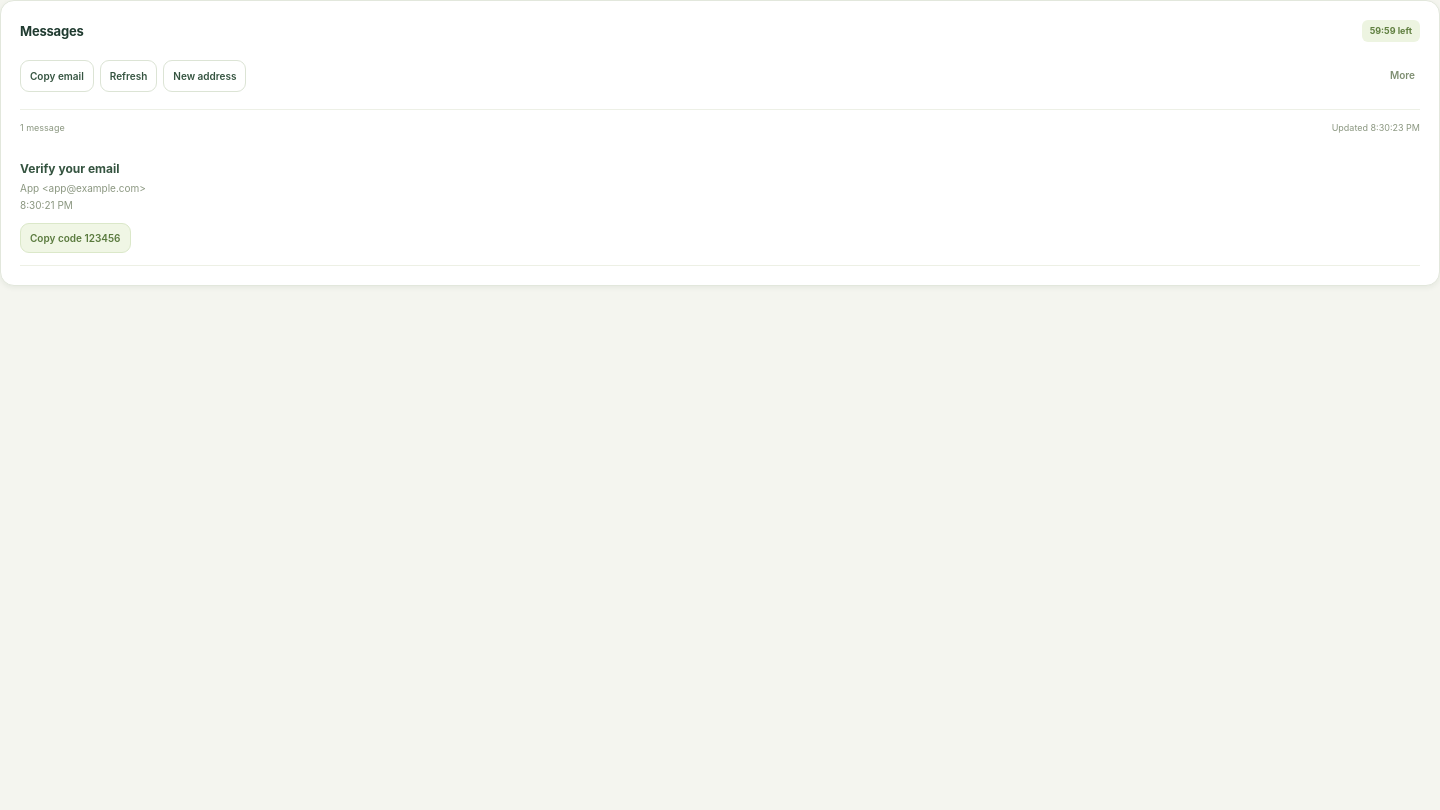
Scenario: compact inbox controls › keeps an existing address until replacement is explicitly confirmed
Later steps or results of the test are not shown.
Click the button "New address".
click(205, 76)  # box top-left (163, 60), bottom-right (246, 92)
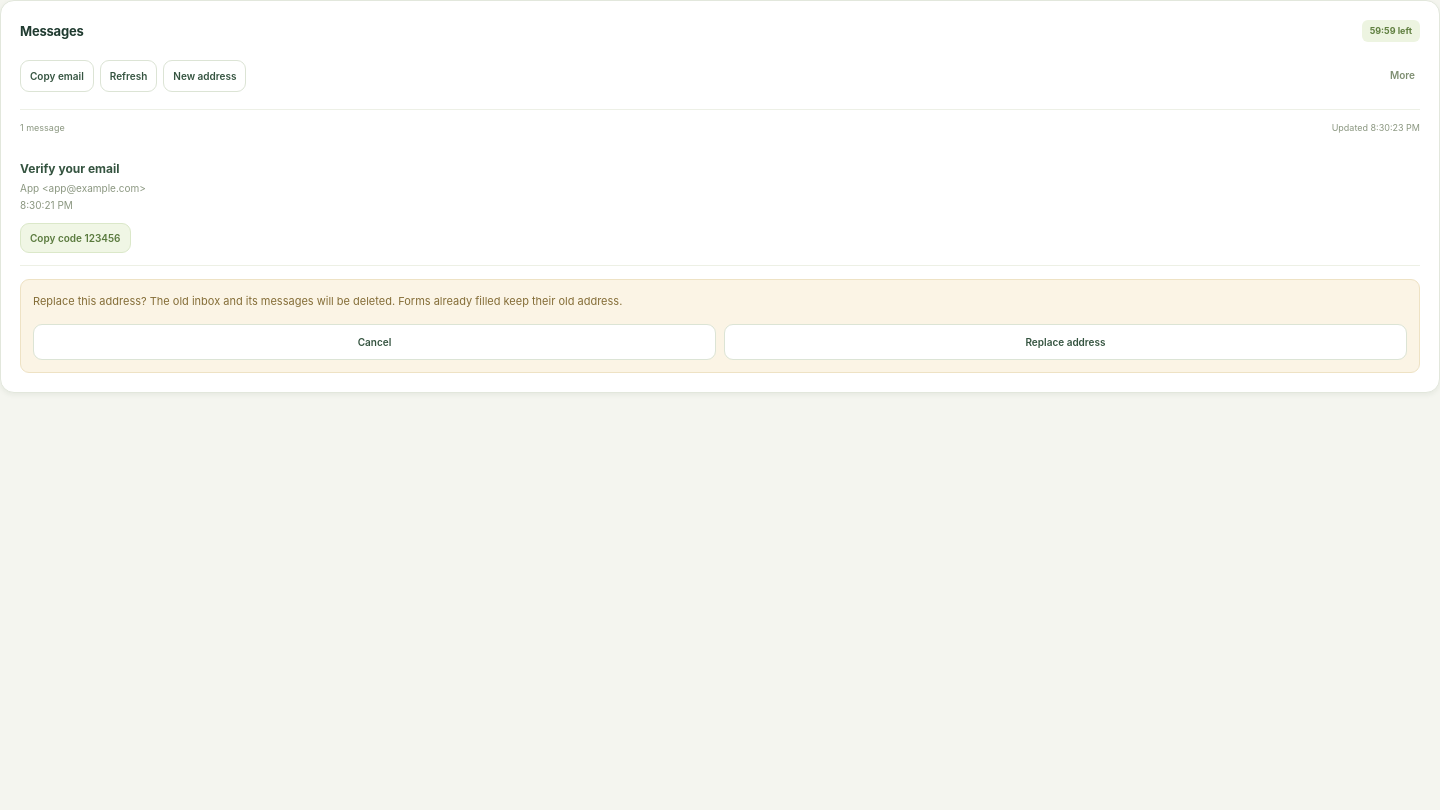
Expected: the button "Replace address" is shown, top-left (724, 324), bottom-right (1407, 360)
